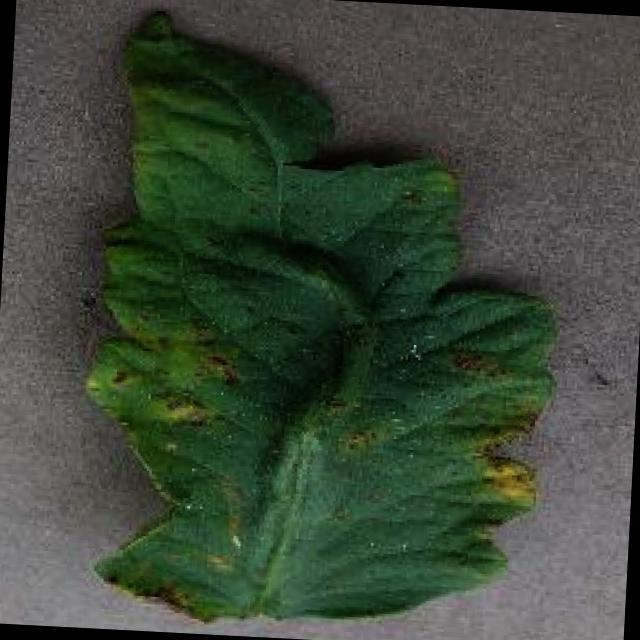Tomato bacterial spot leaf: (65, 1, 578, 639)
